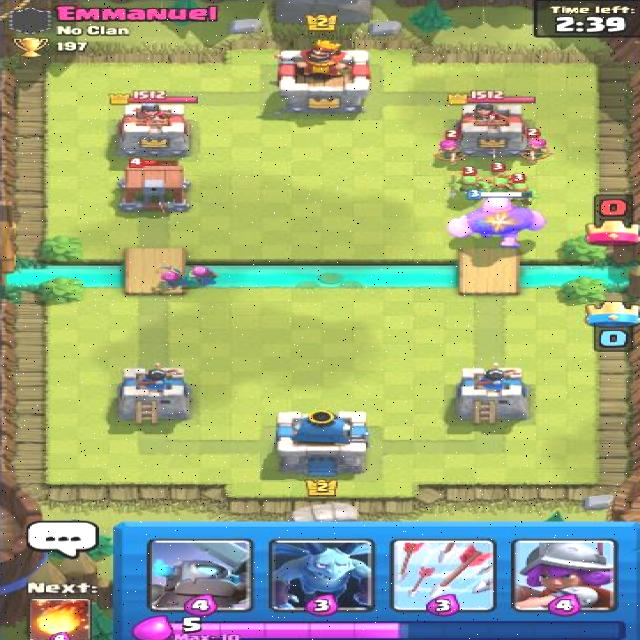Enemy-Archer: (514, 127, 557, 163), (431, 129, 472, 166)
Enemy-GoblinCage: (112, 158, 202, 214)
Enemy-SpearGoblin: (446, 165, 495, 200), (499, 172, 539, 207), (479, 162, 516, 198)
Player-Archer: (150, 262, 191, 294), (184, 264, 223, 288)
Player-Giant: (445, 190, 550, 248)
